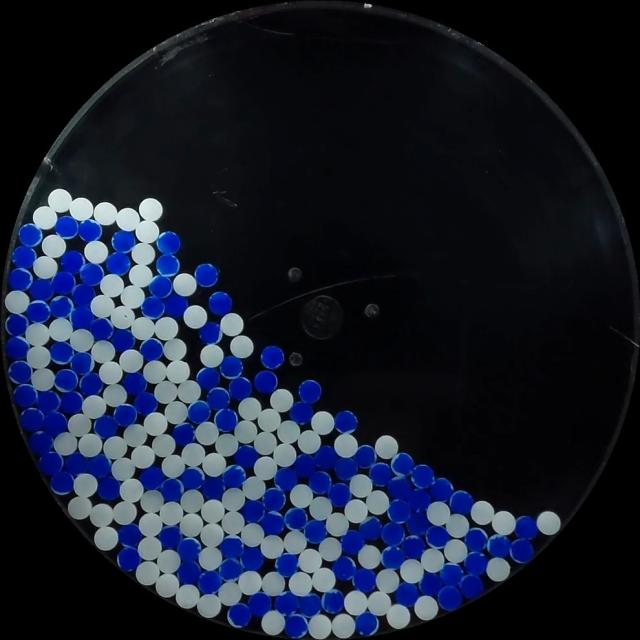pmmma-blanca: (124, 422, 152, 448), (200, 498, 226, 525), (154, 572, 180, 598), (48, 188, 74, 214), (365, 590, 391, 616), (175, 583, 201, 609), (25, 322, 51, 347), (297, 548, 322, 574), (217, 581, 243, 606), (32, 255, 58, 280), (88, 503, 114, 528), (413, 595, 438, 621), (196, 593, 222, 618), (260, 610, 285, 636), (485, 556, 510, 582), (199, 522, 224, 548), (310, 566, 336, 591), (178, 512, 204, 537), (50, 317, 76, 342), (151, 433, 177, 458), (111, 458, 138, 482), (443, 537, 468, 562), (343, 590, 368, 615), (356, 544, 381, 569), (112, 499, 137, 524), (41, 234, 66, 259), (119, 478, 144, 503), (490, 510, 515, 535), (131, 316, 156, 341), (399, 559, 424, 584), (4, 290, 30, 314), (72, 473, 98, 497), (153, 316, 179, 340), (426, 500, 450, 526), (138, 198, 164, 222), (331, 612, 355, 638), (26, 345, 52, 369), (470, 499, 494, 525), (128, 264, 154, 288), (30, 367, 56, 391), (32, 206, 58, 230), (536, 510, 560, 536), (110, 305, 136, 329), (197, 548, 223, 572), (93, 202, 118, 226), (166, 359, 190, 384), (420, 547, 444, 572), (130, 444, 155, 468), (288, 571, 313, 595), (90, 294, 115, 318), (99, 274, 124, 298), (222, 509, 246, 534), (98, 361, 123, 385), (333, 433, 358, 457), (93, 526, 118, 550), (238, 571, 263, 595), (135, 561, 160, 585), (269, 388, 294, 412), (375, 568, 399, 593), (386, 603, 410, 628), (202, 452, 227, 476), (348, 473, 372, 498), (344, 498, 368, 523), (365, 489, 389, 514), (260, 534, 285, 558), (161, 453, 185, 478), (374, 434, 398, 459), (104, 383, 128, 408), (53, 432, 78, 456), (222, 488, 246, 513), (242, 476, 266, 501), (254, 456, 278, 481), (289, 484, 313, 509), (172, 273, 198, 296), (139, 536, 162, 562), (261, 571, 285, 595), (154, 380, 178, 404), (254, 430, 278, 454), (91, 340, 115, 364), (143, 412, 167, 436), (82, 394, 106, 418), (180, 489, 204, 513), (78, 433, 102, 457), (325, 512, 349, 536), (70, 197, 94, 221), (138, 513, 162, 537), (140, 490, 164, 514), (274, 444, 298, 468), (238, 397, 262, 421), (84, 241, 109, 264), (229, 335, 254, 358), (115, 208, 140, 231), (183, 305, 208, 328), (307, 614, 330, 639), (67, 414, 92, 437), (104, 436, 129, 459), (68, 497, 93, 520), (241, 523, 264, 548), (143, 361, 168, 384), (319, 537, 342, 562), (119, 349, 143, 372), (163, 338, 187, 361), (200, 344, 224, 367), (220, 313, 244, 336), (311, 411, 334, 435), (120, 285, 144, 308), (277, 421, 301, 444), (298, 430, 321, 454), (182, 443, 205, 467), (310, 496, 333, 520), (131, 243, 156, 265), (135, 220, 160, 242), (162, 501, 183, 527), (258, 409, 281, 432), (235, 421, 258, 444), (158, 550, 180, 574), (178, 380, 201, 402), (196, 422, 218, 445), (447, 514, 469, 537), (72, 329, 94, 351), (216, 434, 238, 456), (284, 531, 306, 553), (165, 402, 188, 423)
